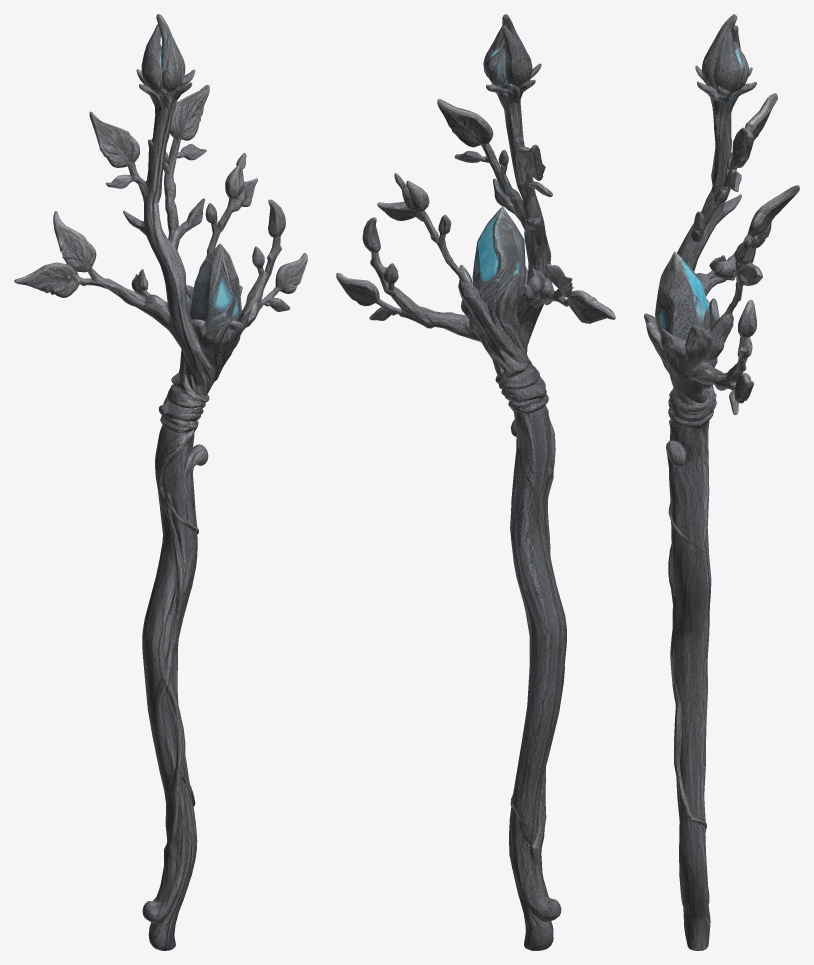
File: Meshy_AI_Weapon_elf_staff_01a0e88a_texture.glb
The picture shows the model from 3 angles, left to right: view 1: azimuth 30°, elevation 25°; view 2: azimuth 150°, elevation 25°; view 3: azimuth 270°, elevation 25°; orthographic projection. The views are drawn at different scales.
Bounding box in the file's own units: 0.6097 × 1.9 × 0.2863.
Materials: 1 (1 with a texture image).
